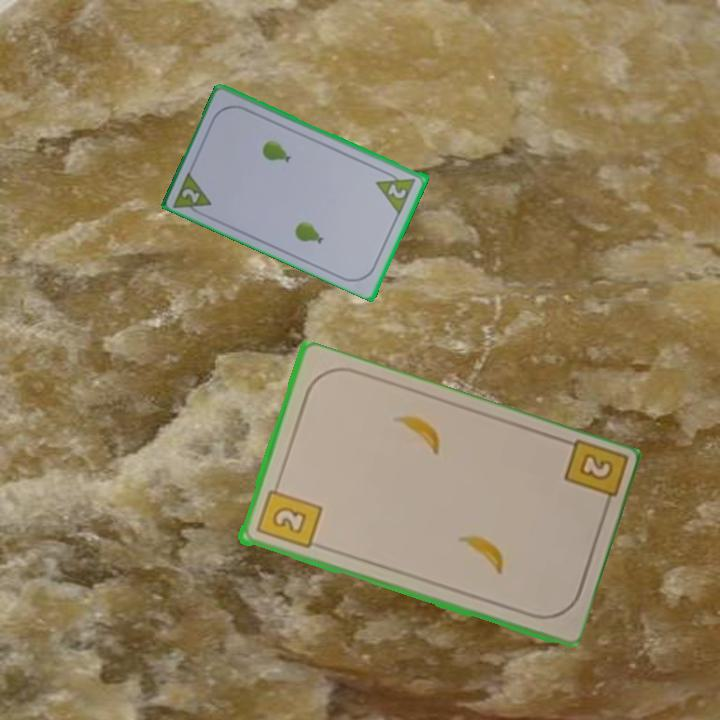2b: (559, 437, 627, 516), (252, 478, 324, 552)
2p: (384, 180, 409, 202), (178, 184, 203, 206)
